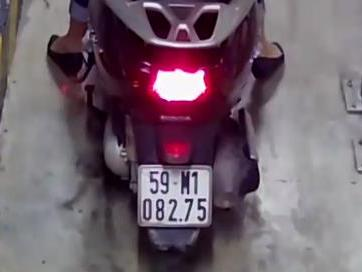num_plate: (136, 162, 214, 229)
